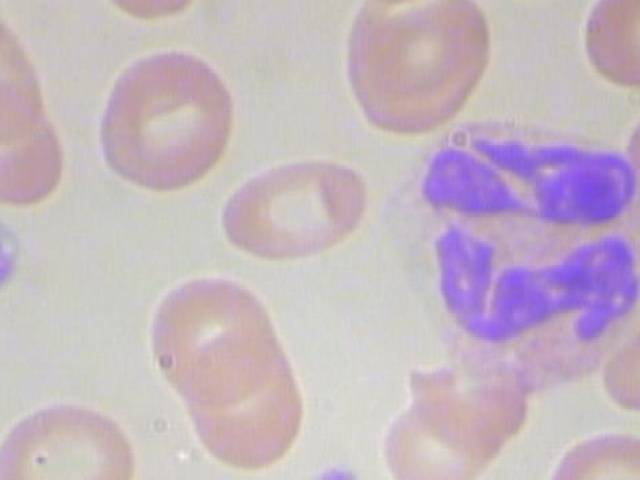Platelets: (0, 207, 30, 300), (291, 452, 367, 480)
RBC: (91, 44, 249, 197), (326, 0, 497, 139), (166, 323, 312, 473), (143, 267, 282, 417), (215, 151, 371, 265), (0, 388, 147, 480), (371, 385, 511, 480), (0, 4, 61, 154), (564, 0, 640, 99), (534, 422, 640, 480), (597, 288, 640, 423), (73, 0, 231, 29), (609, 87, 640, 221), (312, 0, 462, 2), (460, 0, 609, 2)
WBC: (381, 109, 640, 390)
